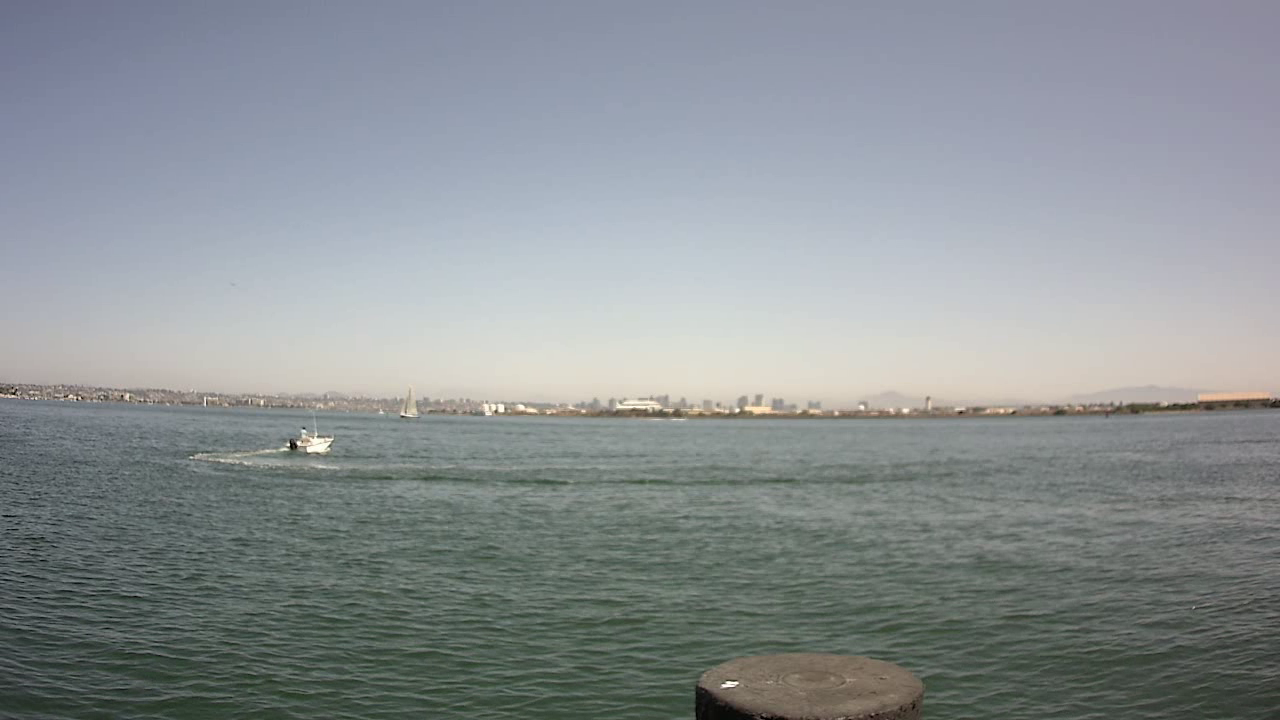target: (276, 415, 355, 464)
